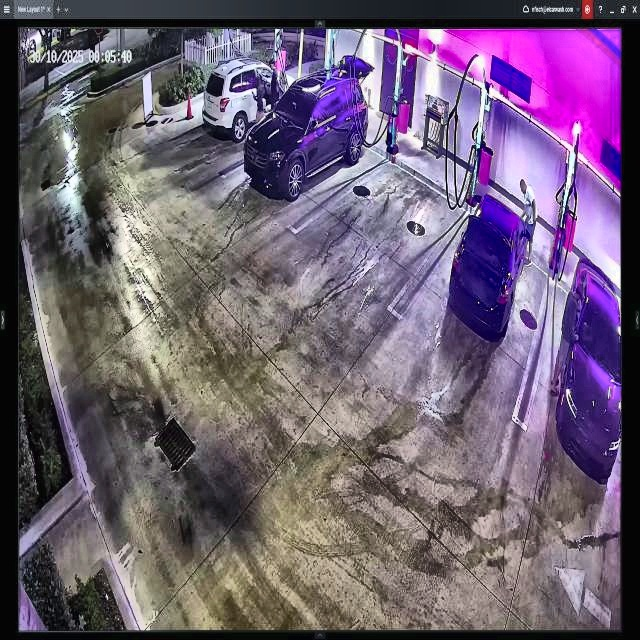Car: (242, 57, 370, 196), (447, 192, 528, 338)
